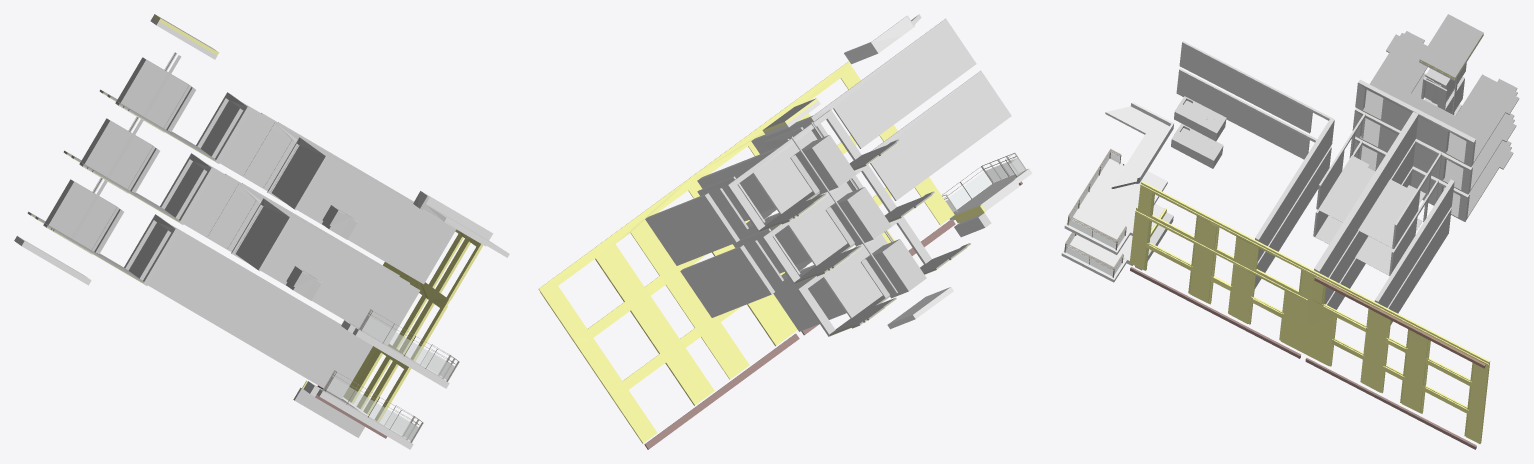
3 views of the same model, side by side, from view 1: azimuth 30°, elevation 25°; view 2: azimuth 150°, elevation 25°; view 3: azimuth 270°, elevation 25° (orthographic). The views are drawn at different scales.
Visible parts, largest first — view 1: mesh; view 2: mesh; view 3: mesh.
Part boxes in pixels (bbox=[...]): mesh: bbox=[14, 14, 509, 449]; mesh: bbox=[538, 14, 1032, 449]; mesh: bbox=[1061, 14, 1519, 449].
Size of the model in its own units: 21.31 by 19.9 by 22.71.
